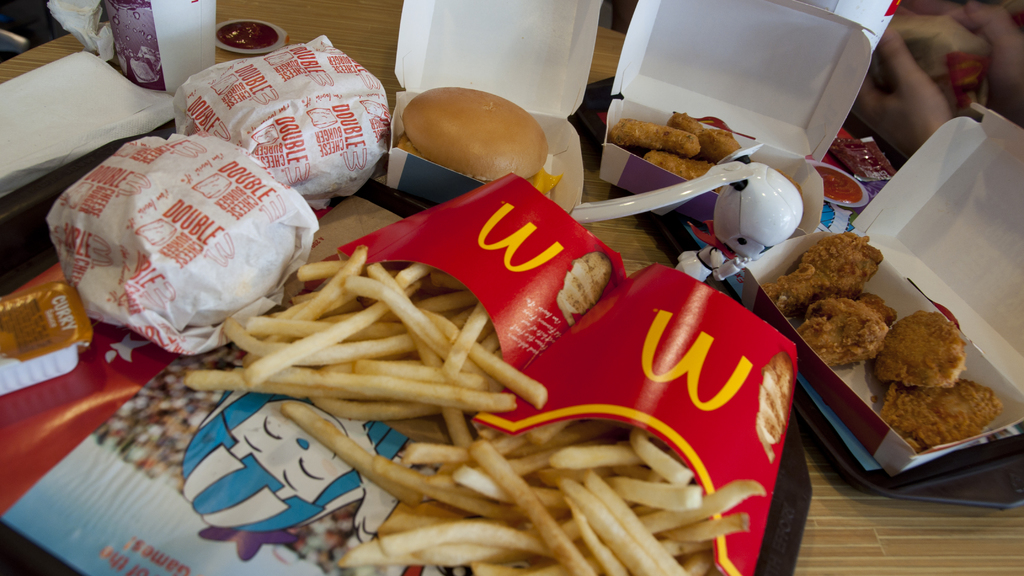French fries: (195, 254, 524, 455)
